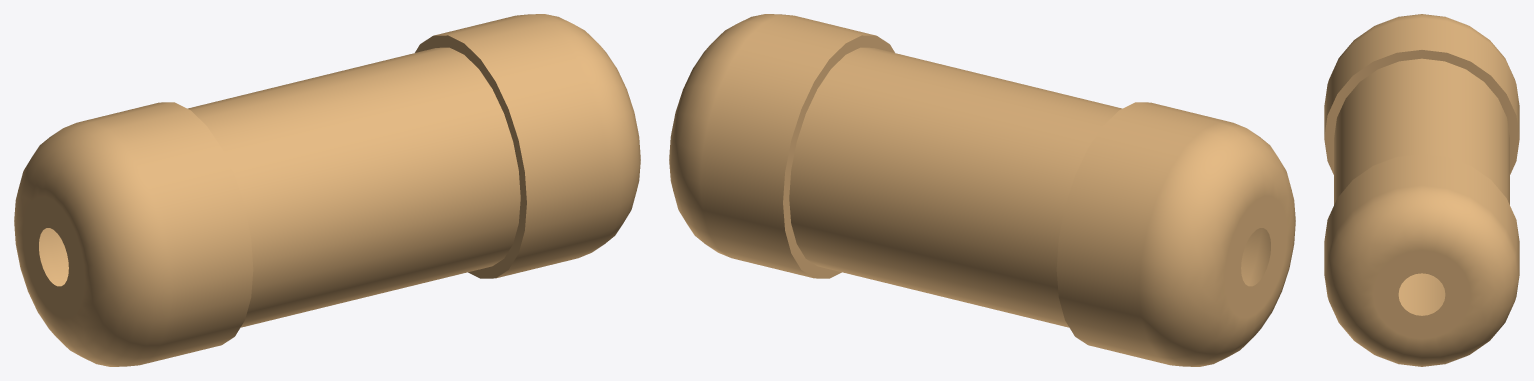
The picture shows the model from 3 angles, left to right: view 1: azimuth 30°, elevation 25°; view 2: azimuth 150°, elevation 25°; view 3: azimuth 270°, elevation 25°; orthographic projection. The views are drawn at different scales.
Parts seen in each view (by area): view 1: REF**; view 2: REF**; view 3: REF**.
Boxes of the visible parts, x1,y1,x2,y2 form: REF**: (14,14,640,366); REF**: (669,14,1295,366); REF**: (1324,14,1519,366).
Size of the model in its own units: 6.3 by 2.5 by 2.5.
